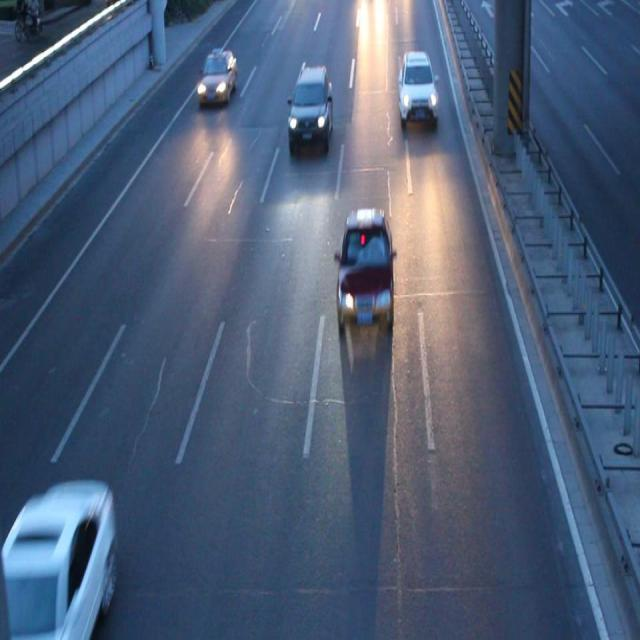car: (0, 483, 114, 640), (336, 210, 395, 332), (287, 66, 332, 150), (396, 50, 438, 124), (198, 48, 236, 101)
